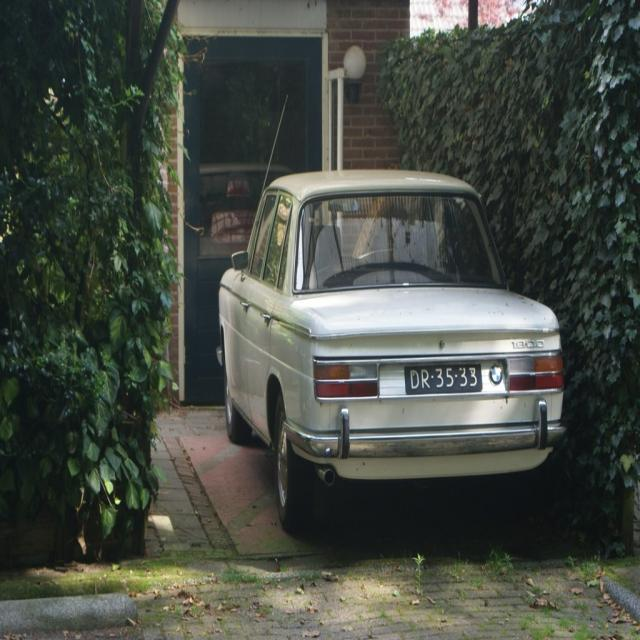car: (213, 93, 564, 528)
